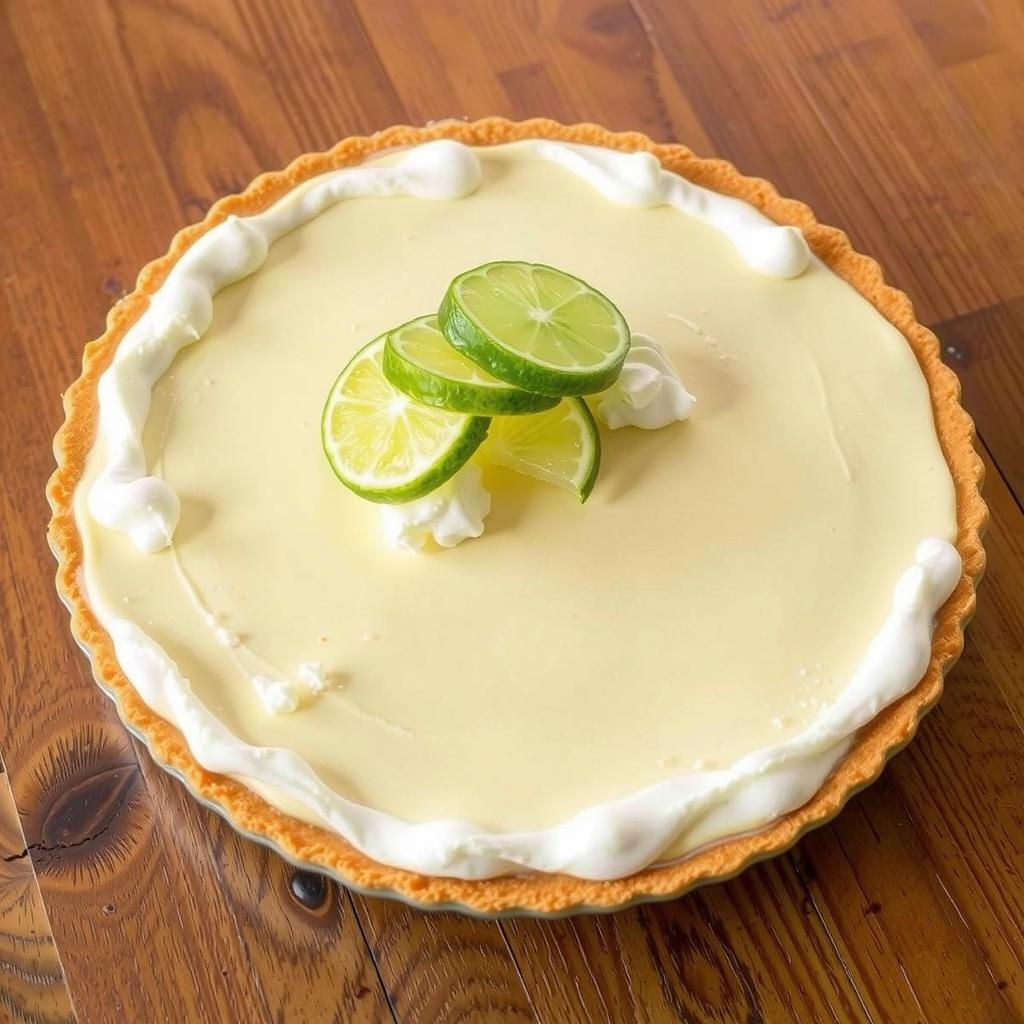pie: (41, 106, 996, 943)
